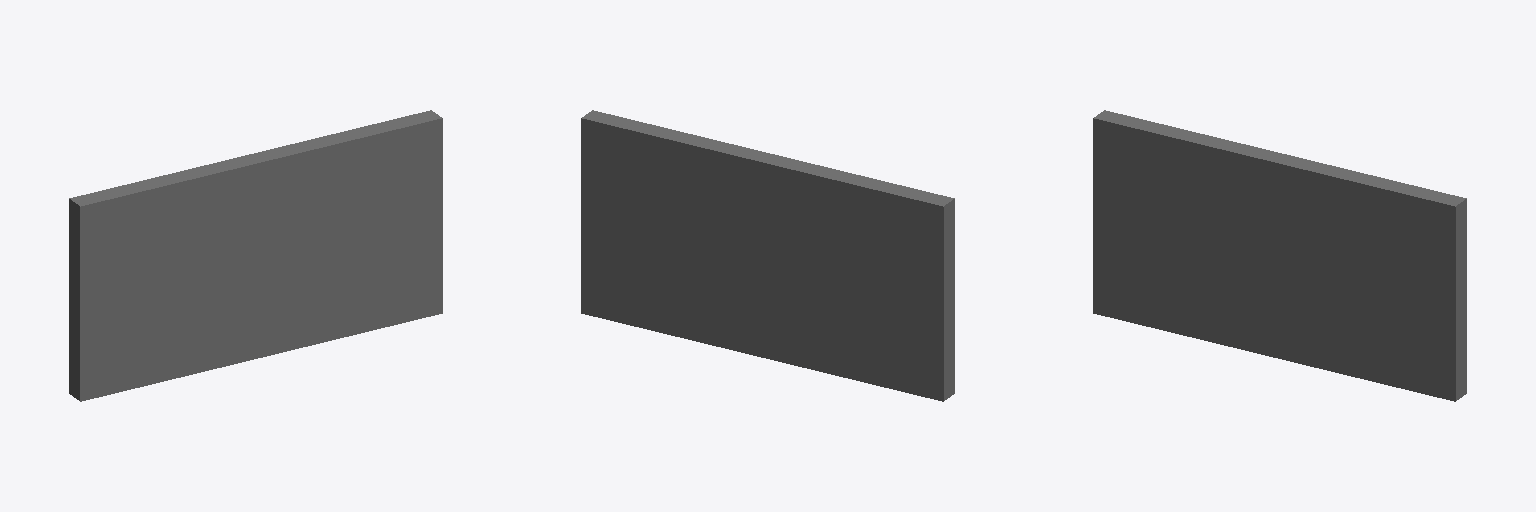
Rendered from brickWall.obj.
3 views of the same model, side by side, from view 1: azimuth 30°, elevation 25°; view 2: azimuth 150°, elevation 25°; view 3: azimuth 330°, elevation 25° (orthographic).
Visible parts, largest first — view 1: waller; view 2: waller; view 3: waller.
Part boxes in pixels (bbox=[...]): waller: bbox=[69, 110, 442, 401]; waller: bbox=[581, 110, 954, 401]; waller: bbox=[1093, 110, 1466, 401].
Bounding box in the file's own units: 74.03 × 38.14 × 3.94.